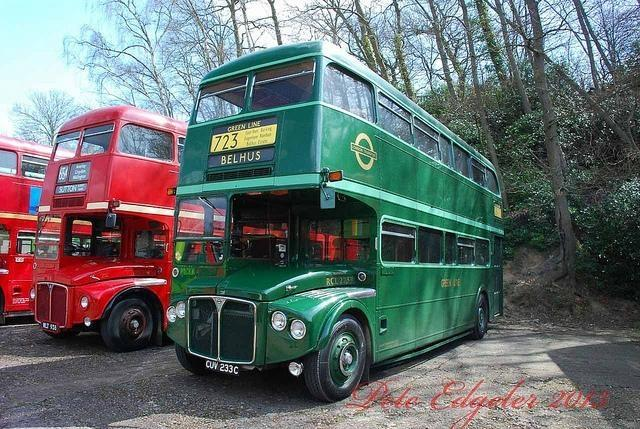bus: (163, 36, 507, 405), (31, 105, 188, 348), (0, 138, 57, 320)
